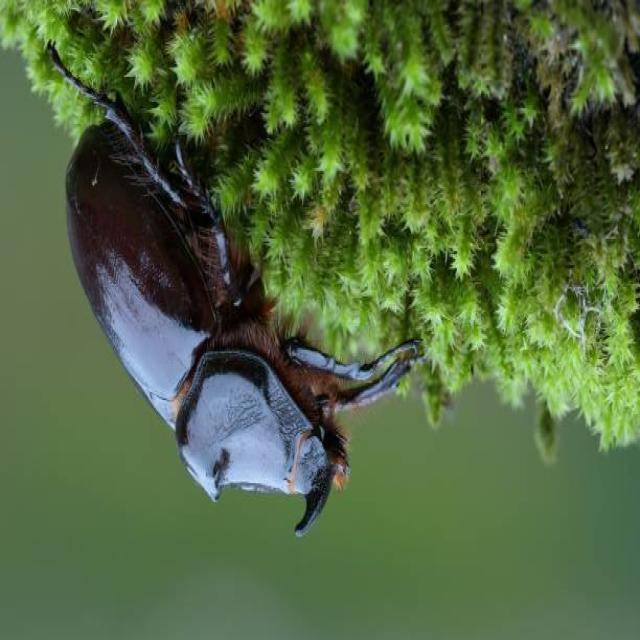Rhino-beetle: (58, 121, 364, 542)
